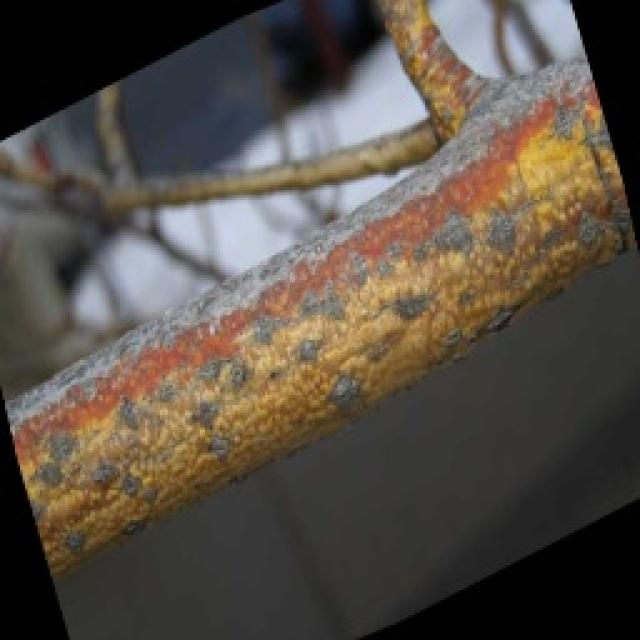Golden_canker: (11, 49, 622, 596)
